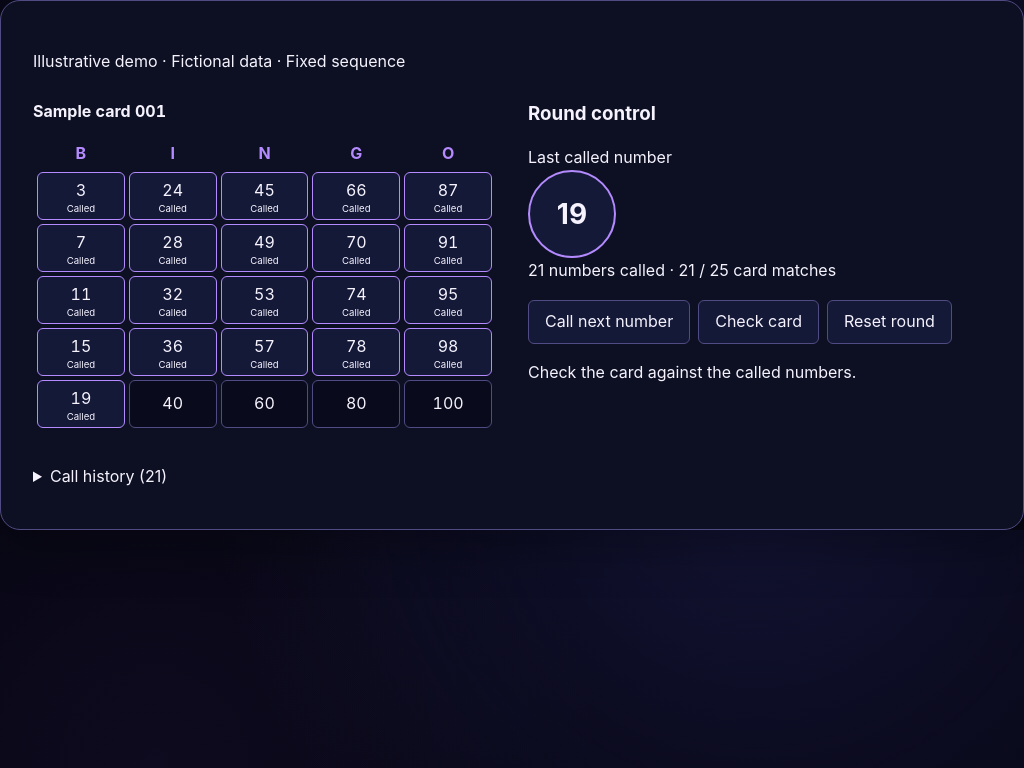
Scenario: RoundDemo › resets the history, matches, and review before starting a fresh round
The width and height of the screenshot is (1024, 768).
Click the button "Check card": [759, 322] box [698, 300, 819, 344]
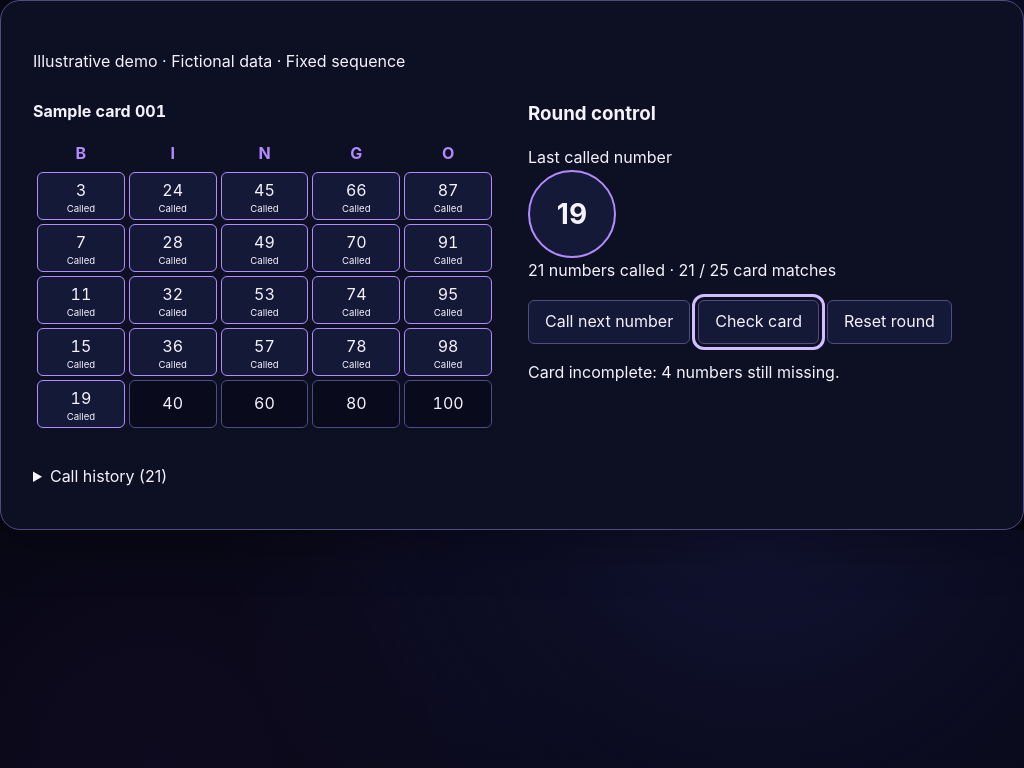
Click the button "Reset round": [889, 322] box [827, 300, 952, 344]
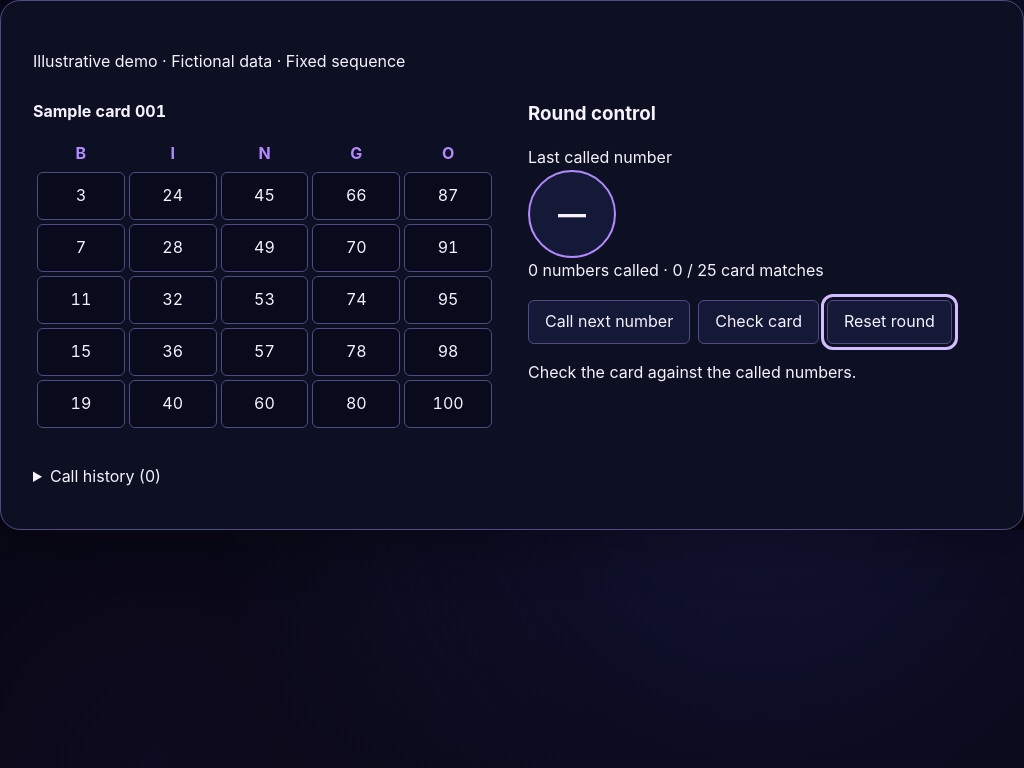
Now the text "0 numbers called · 0 / 25 card matches" is shown, box [528, 260, 824, 280]
Now the message no longer shows "incomplete", box [528, 362, 856, 382]
Click the button "Call next number": [609, 322] box [528, 300, 690, 344]
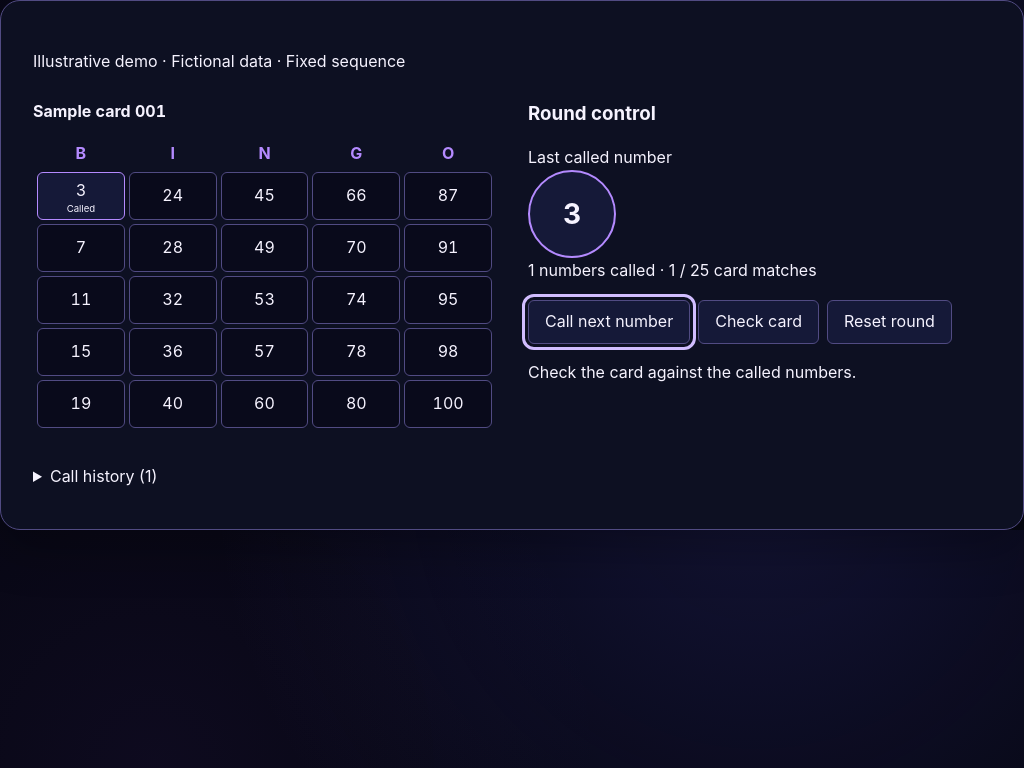
Now the text "1 numbers called · 1 / 25 card matches" is shown, box [528, 260, 817, 280]
Click the heading "Call history (1)": [104, 476] box [50, 466, 157, 486]
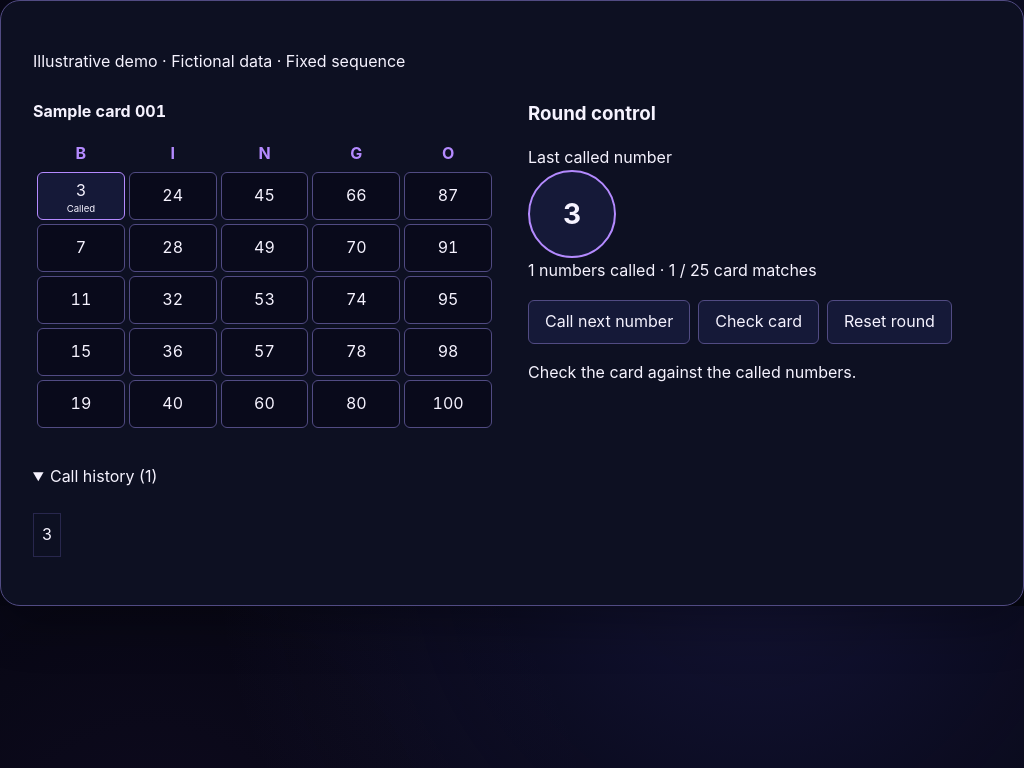
Now the number of list items is 1, box [33, 513, 61, 557]
